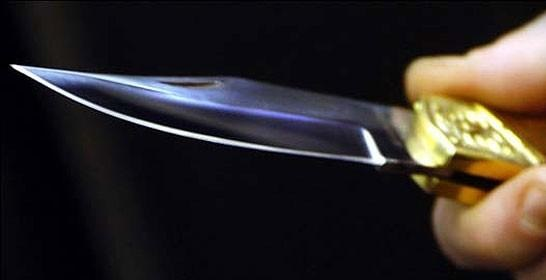knife: (4, 50, 476, 229)
